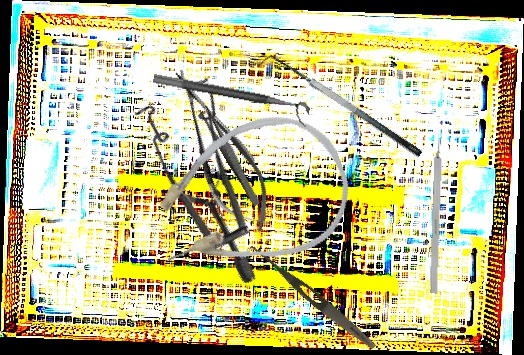Cannula: (133, 97, 365, 296)
Dressing Forceps: (246, 241, 379, 353), (197, 104, 264, 208)
Fixation Ring: (150, 73, 311, 127)
Hook Surgical: (429, 126, 444, 294)
Micro Scissor: (155, 57, 286, 244)
Spatula Surgical: (259, 44, 424, 171)
Speculum: (94, 55, 335, 288)
